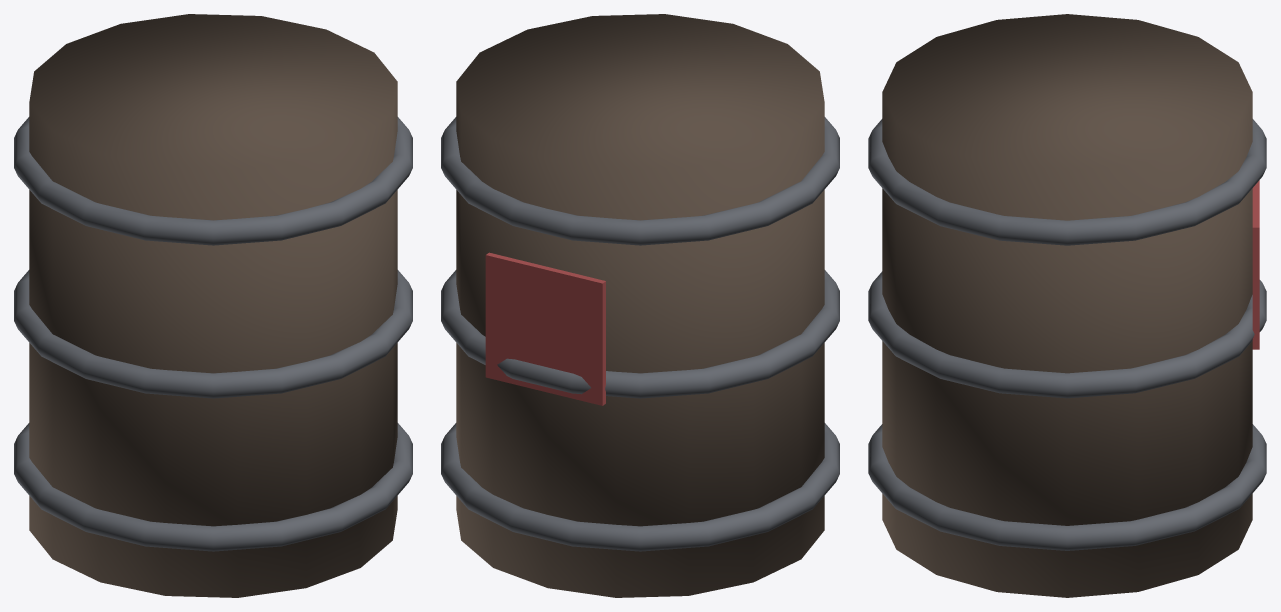
Rendered from prop_tensui_oke.glb.
3 renders of one model, left to right at view 1: azimuth 30°, elevation 25°; view 2: azimuth 150°, elevation 25°; view 3: azimuth 270°, elevation 25°, orthographic.
Parts seen in each view (by area): view 1: tensui_oke; view 2: tensui_oke; view 3: tensui_oke.
Part boxes in pixels (<box>): tensui_oke: <box>14,14,412,597</box>; tensui_oke: <box>441,14,839,597</box>; tensui_oke: <box>868,14,1266,597</box>.
Bounding box in the file's own units: 1.2 × 1.4 × 1.18.
